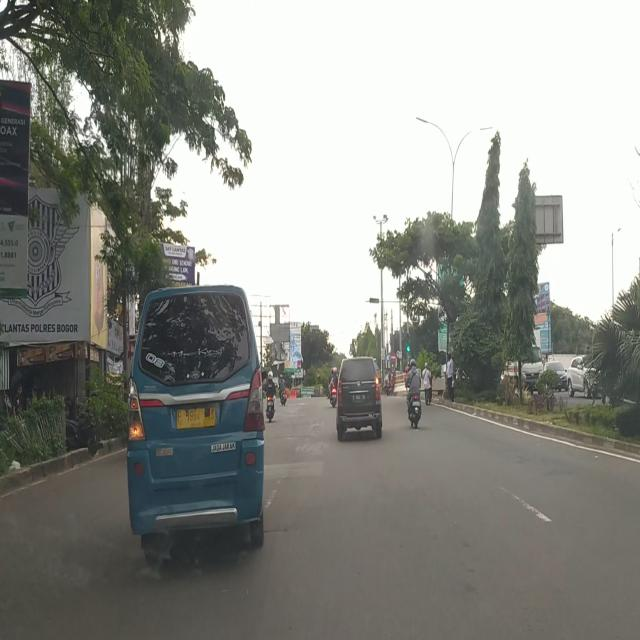Sewer Cover: (264, 524, 290, 534)
